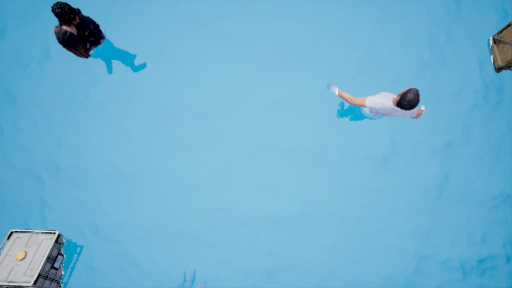person: (46, 1, 154, 76), (316, 79, 431, 135)
